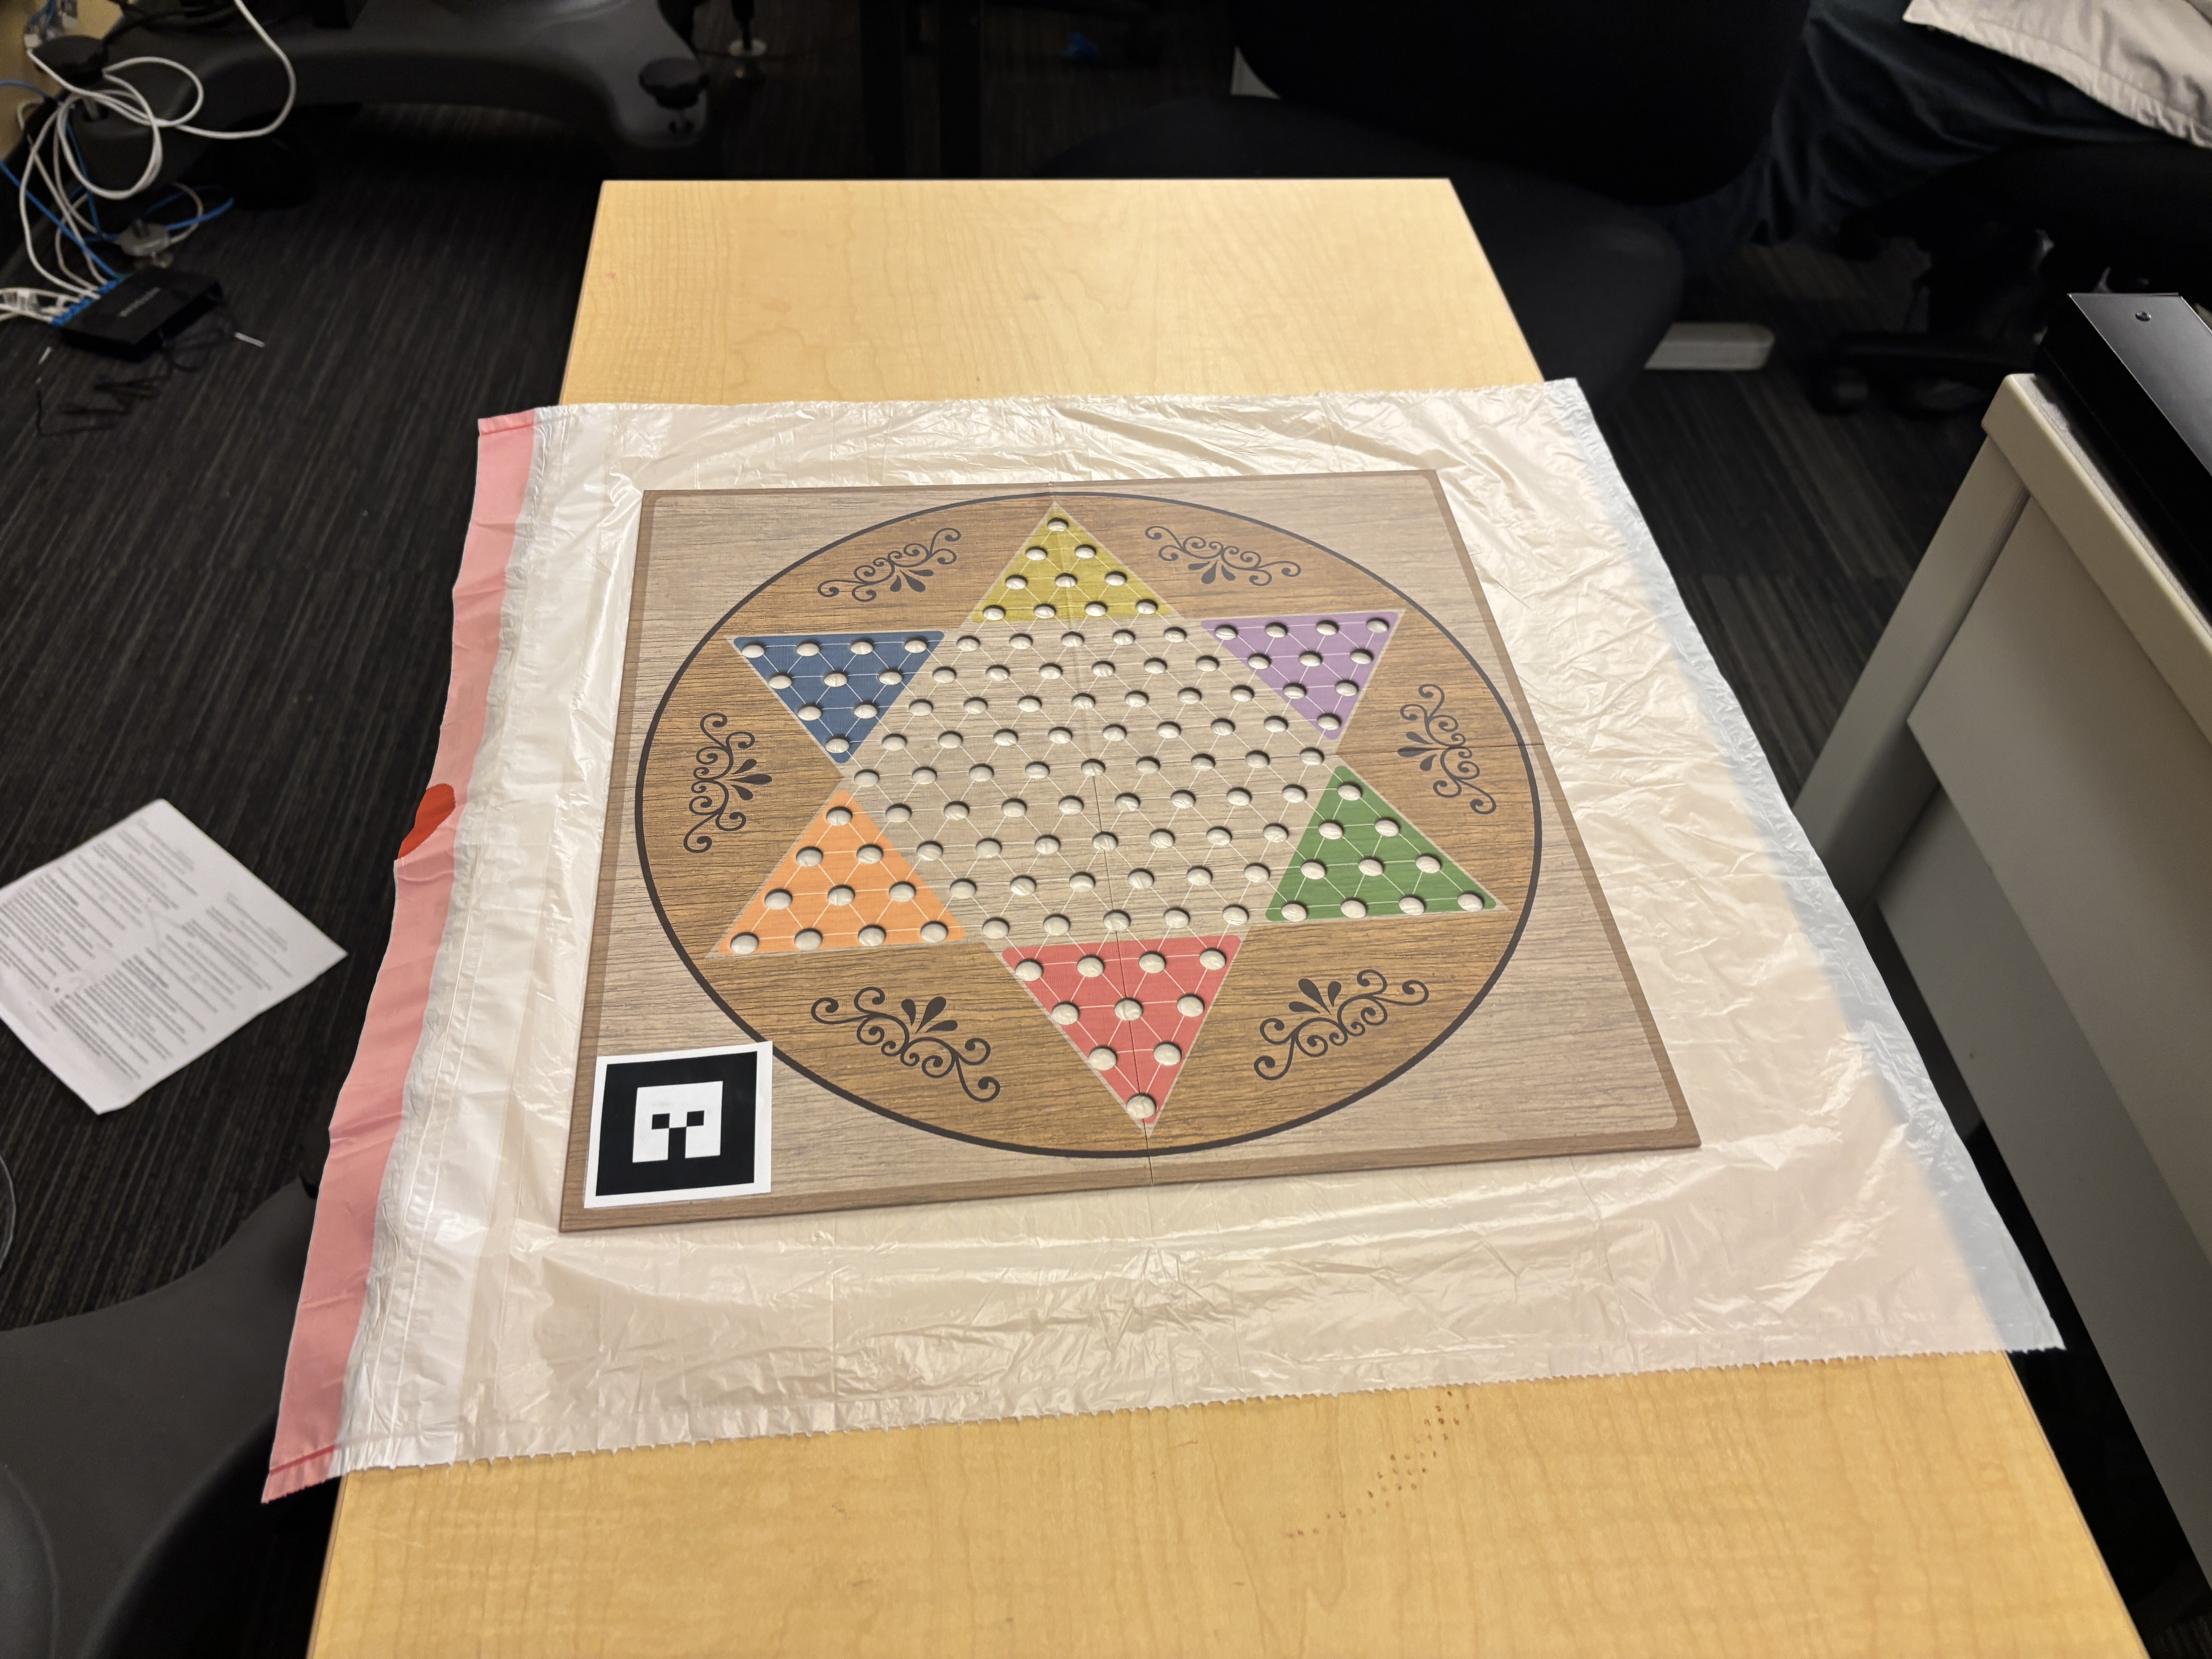lower_left: (549, 1207, 580, 1250)
lower_right: (1680, 1123, 1716, 1165)
upper_left: (632, 483, 665, 510)
upper_right: (1421, 459, 1455, 490)
